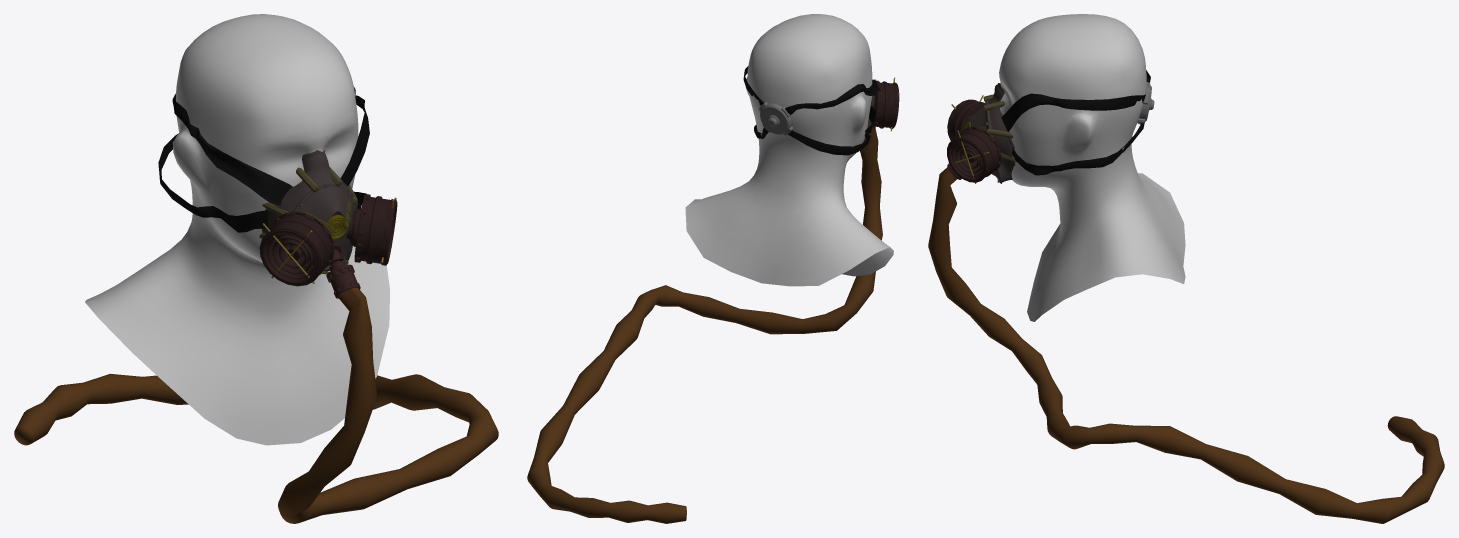
The model's file is tkb-MASKER_RESPIRATOR.glb.
The picture shows the model from 3 angles, left to right: view 1: azimuth 30°, elevation 25°; view 2: azimuth 150°, elevation 25°; view 3: azimuth 270°, elevation 25°; orthographic projection. The views are drawn at different scales.
Parts seen in each view (by area): view 1: basicHead, polySurface74, polySurface61, polySurface56, polySurface57, polySurface50, polySurface53, polySurface67, polySurface51; view 2: basicHead, polySurface74, polySurface61, polySurface53, polySurface49, polySurface50; view 3: basicHead, polySurface74, polySurface57, polySurface51, polySurface56, polySurface52, polySurface61.
Boxes of the visible parts, left/top/right/bottom form: basicHead: left=85, top=14, right=389, bottom=445; polySurface74: left=14, top=287, right=498, bottom=523; polySurface61: left=259, top=211, right=334, bottom=286; polySurface56: left=262, top=150, right=357, bottom=271; polySurface57: left=346, top=194, right=397, bottom=265; polySurface50: left=172, top=93, right=292, bottom=205; polySurface53: left=158, top=133, right=268, bottom=232; polySurface67: left=326, top=242, right=360, bottom=298; polySurface51: left=340, top=87, right=369, bottom=185; basicHead: left=685, top=14, right=893, bottom=286; polySurface74: left=527, top=128, right=882, bottom=523; polySurface61: left=872, top=80, right=899, bottom=128; polySurface53: left=788, top=106, right=875, bottom=155; polySurface49: left=759, top=102, right=793, bottom=135; polySurface50: left=785, top=79, right=879, bottom=114; basicHead: left=999, top=14, right=1185, bottom=321; polySurface74: left=928, top=167, right=1444, bottom=523; polySurface57: left=947, top=126, right=1001, bottom=182; polySurface51: left=1001, top=93, right=1145, bottom=131; polySurface56: left=969, top=83, right=1015, bottom=183; polySurface52: left=1008, top=123, right=1144, bottom=175; polySurface61: left=947, top=99, right=984, bottom=140.
Size of the model in its own units: 197 by 290 by 315.
